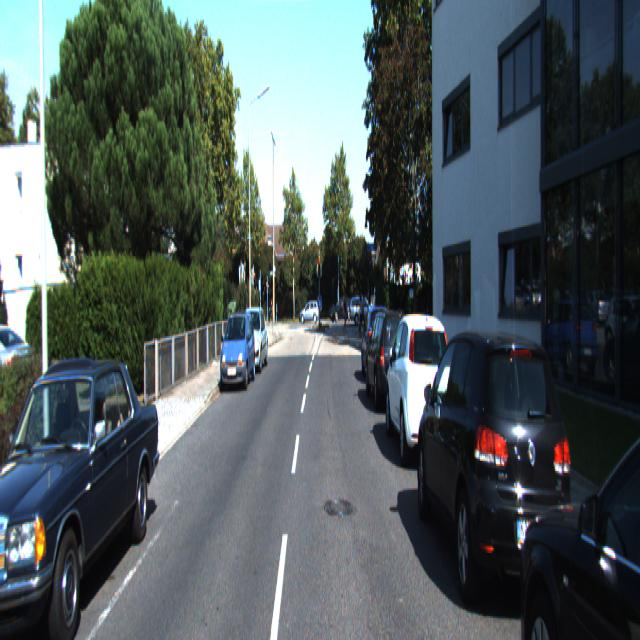Car: (414, 313, 576, 626), (0, 344, 165, 639), (517, 342, 639, 638), (384, 307, 458, 471), (365, 306, 415, 416), (220, 307, 256, 389), (360, 303, 394, 385), (237, 304, 269, 374)
